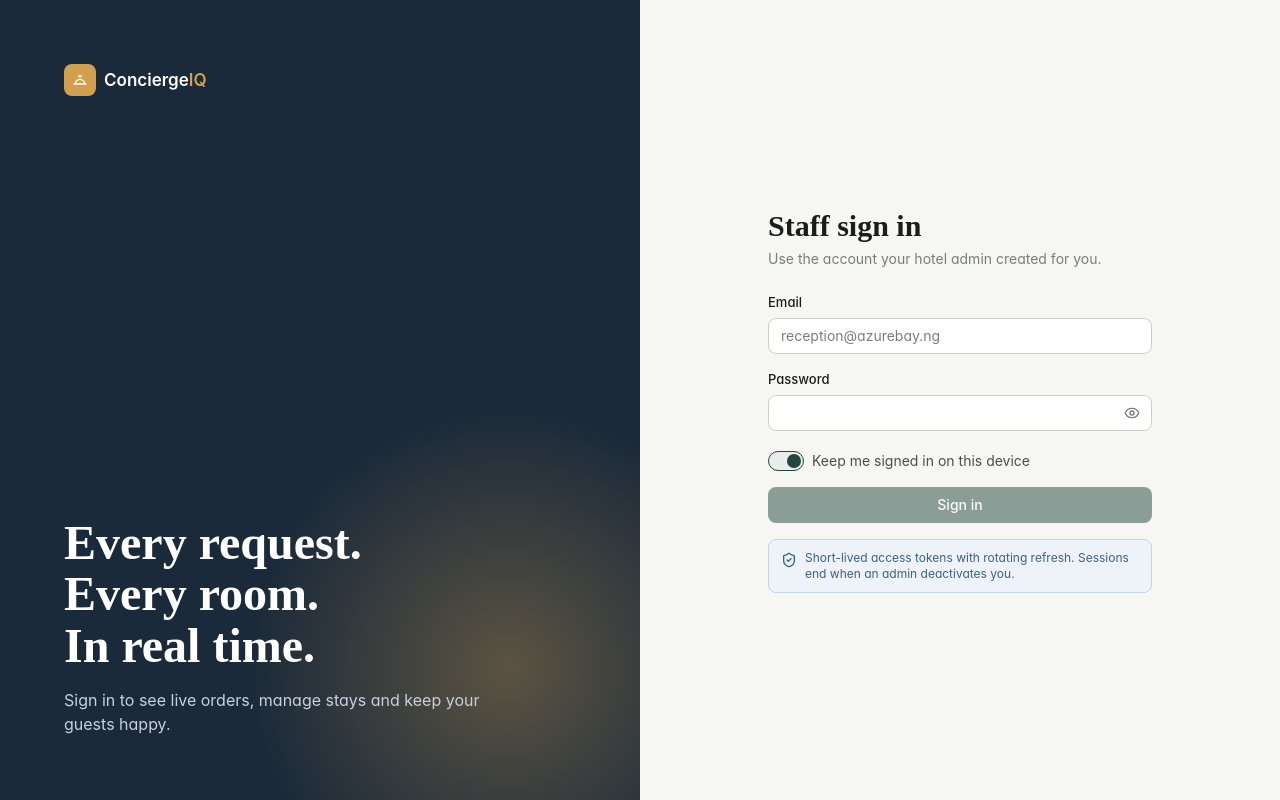
Test: client-side validation › shows a password error when the password is empty and form is submitted
Expected: the heading "Staff sign in" is shown, [768,209,921,242]
Type "amaka@azurebay.test" into the field labelled "Email".
click(960, 336); type("amaka@azurebay.test")  # box [768,318,1152,354]
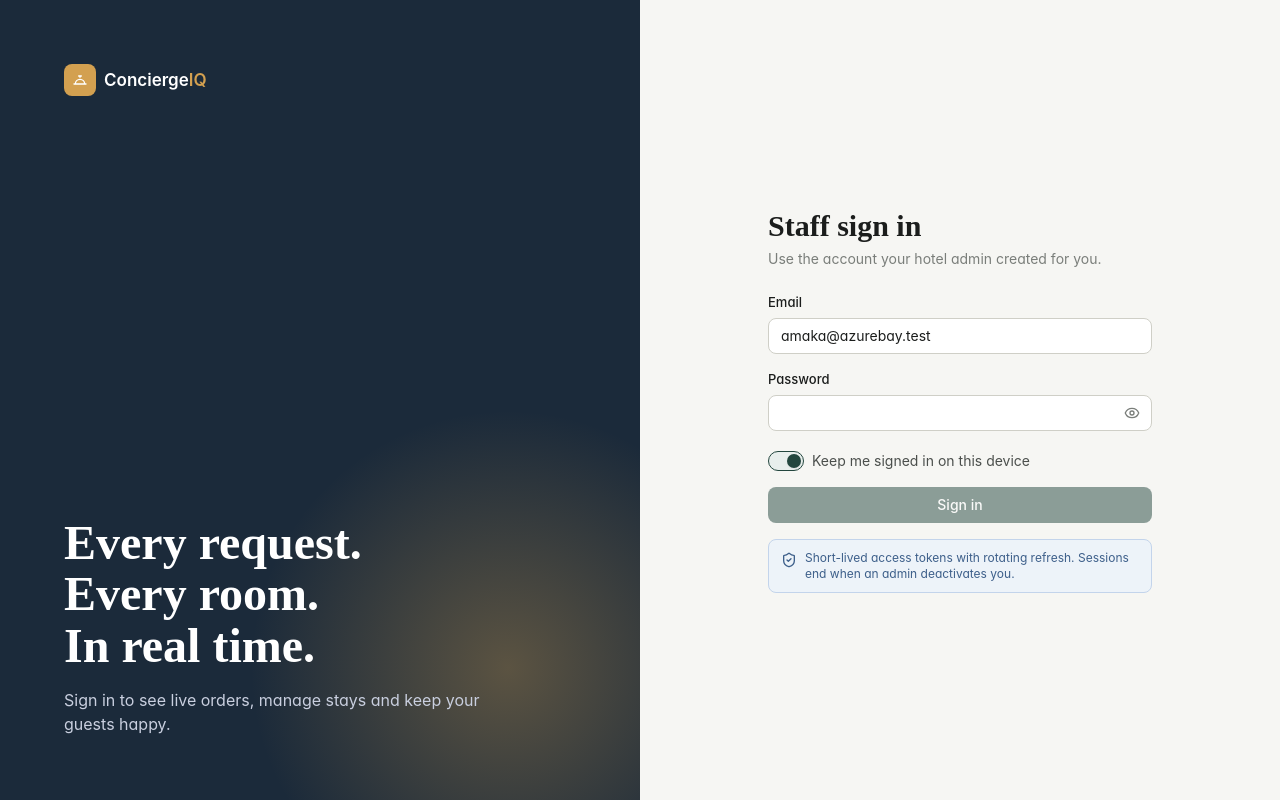
Leave password empty and submit the form element directly
Submit the form, box [768,293,1152,523]
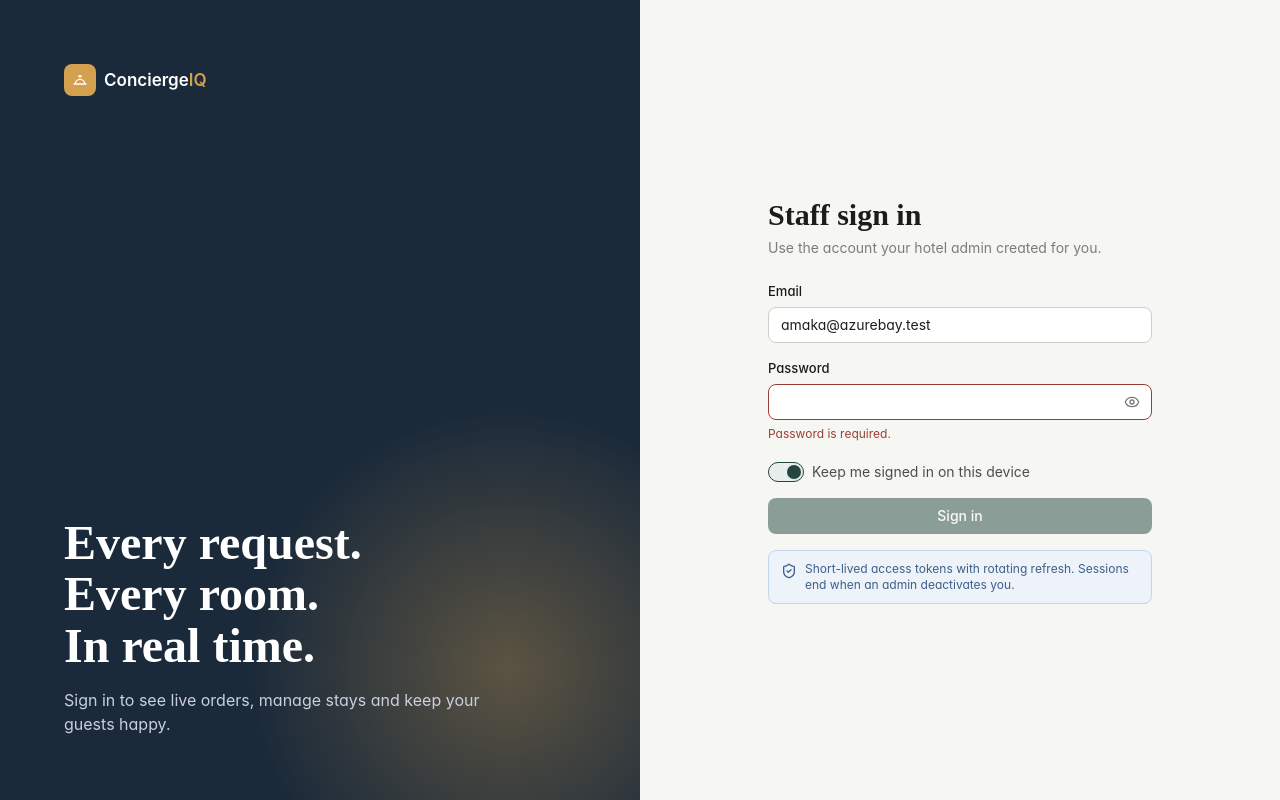
Result: the text "Password is required." is shown at [768,426,891,441]
